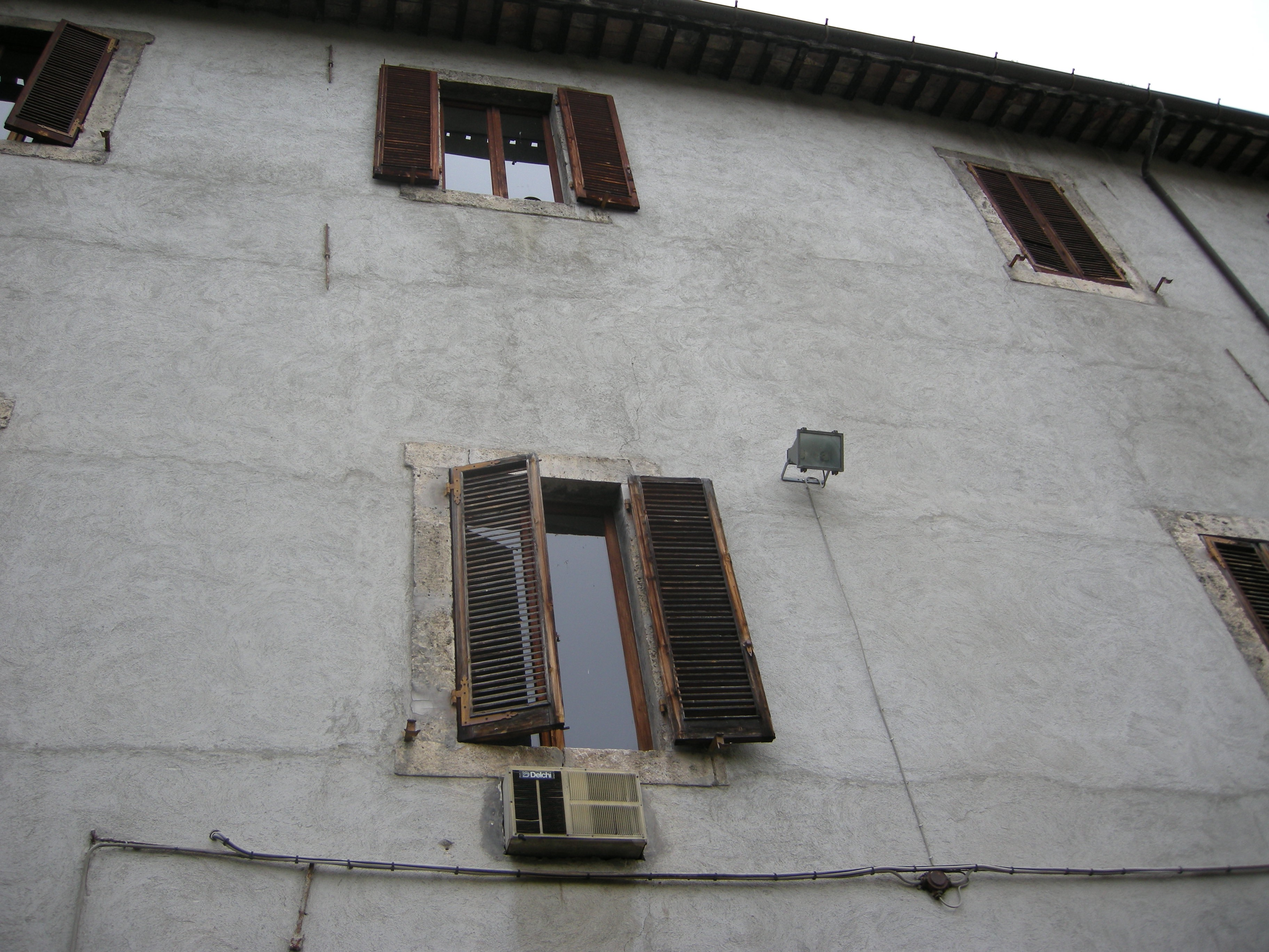Crack: (977, 274, 1219, 526), (573, 220, 660, 455), (336, 189, 408, 444)
